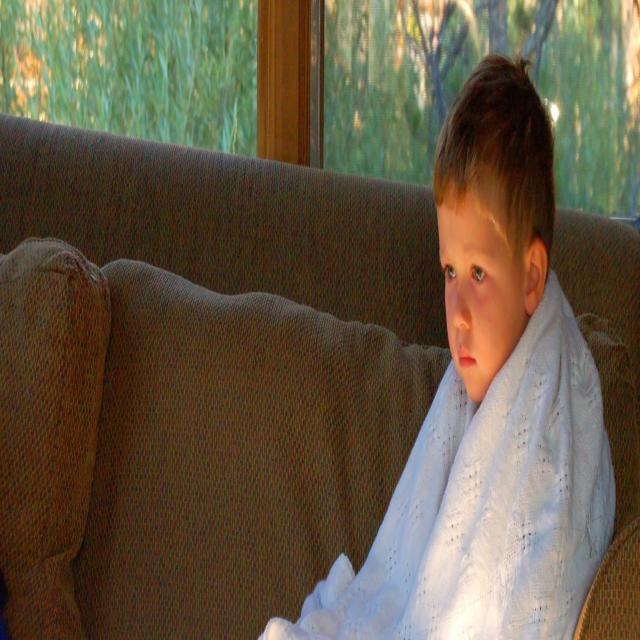blanket: (264, 272, 615, 639)
